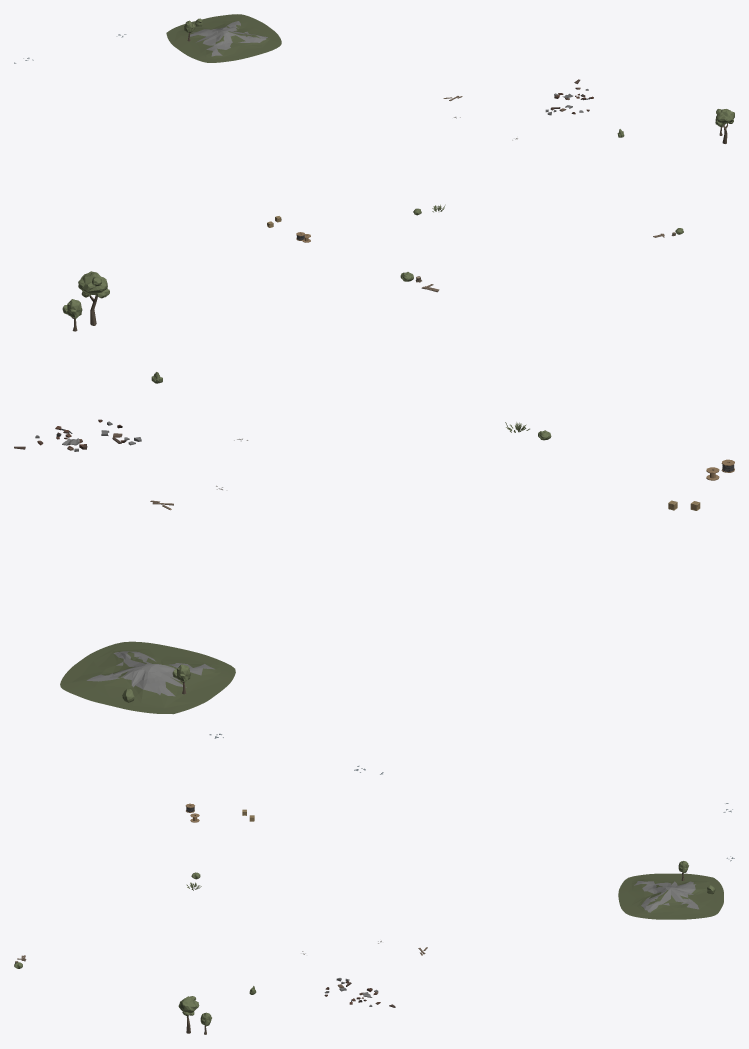
File: Folliage.glb
The picture shows the model from 3 angles, top to bottom: view 1: azimuth 30°, elevation 25°; view 2: azimuth 150°, elevation 25°; view 3: azimuth 270°, elevation 25°; orthographic projection. The views are drawn at different scales.
Parts seen in each view (by area): view 1: SM_Generic_Mountains_Grass_02__3_; view 2: SM_Generic_Mountains_Grass_02__3_, SM_Generic_Tree_01__5_; view 3: SM_Generic_Mountains_Grass_02__3_.
Part boxes in pixels (x1,y1,x2,y2): SM_Generic_Mountains_Grass_02__3_: [166, 14, 281, 62]; SM_Generic_Mountains_Grass_02__3_: [60, 641, 235, 714]; SM_Generic_Tree_01__5_: [78, 271, 109, 325]; SM_Generic_Mountains_Grass_02__3_: [618, 873, 723, 919].
Bounding box in the file's own units: 91.42 × 6.59 × 118.
Materials: 2 (2 with a texture image).
